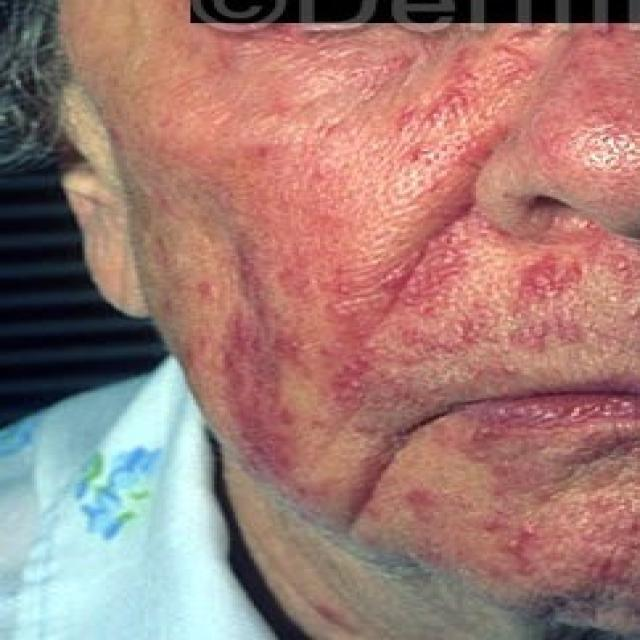Rosacea: (156, 184, 590, 464)
